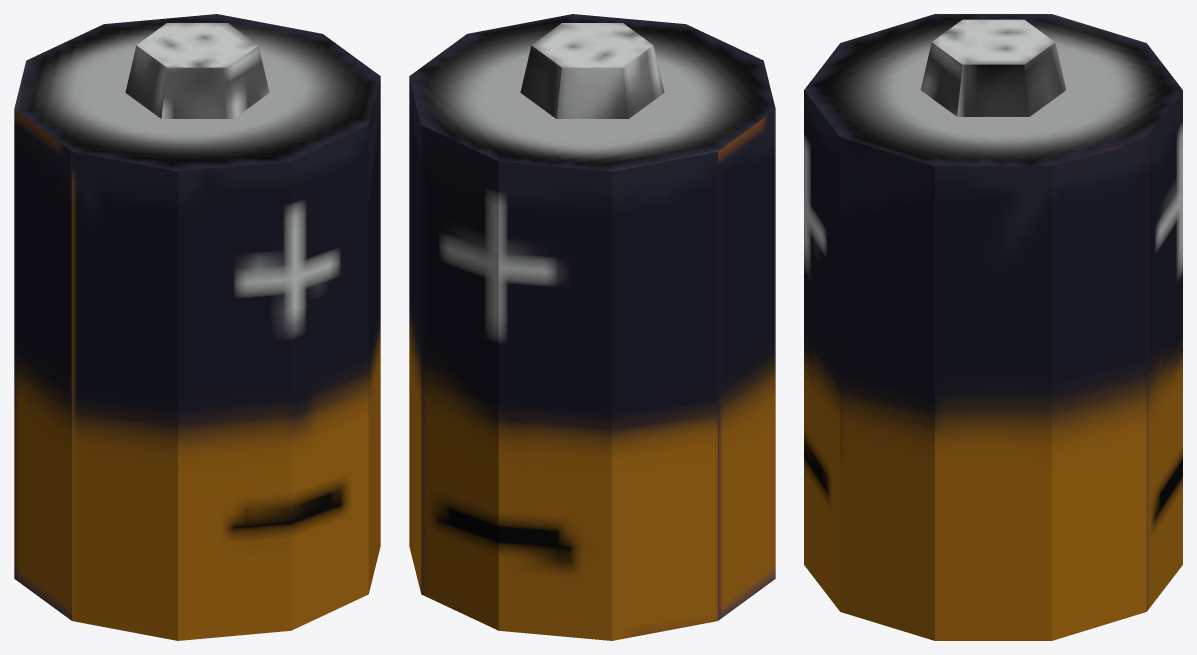
File: PowerBattery_Small.fbx
3 renders of one model, left to right at view 1: azimuth 30°, elevation 25°; view 2: azimuth 150°, elevation 25°; view 3: azimuth 270°, elevation 25°, orthographic.
Visible parts, largest first — view 1: Battery_Small; view 2: Battery_Small; view 3: Battery_Small.
Part boxes in pixels (x1,y1,x2,y2): Battery_Small: [14, 14, 380, 640]; Battery_Small: [409, 14, 775, 640]; Battery_Small: [804, 14, 1182, 640].
Bounding box in the file's own units: 34.26 × 54.82 × 36.02.
1 material, 1 textured.
